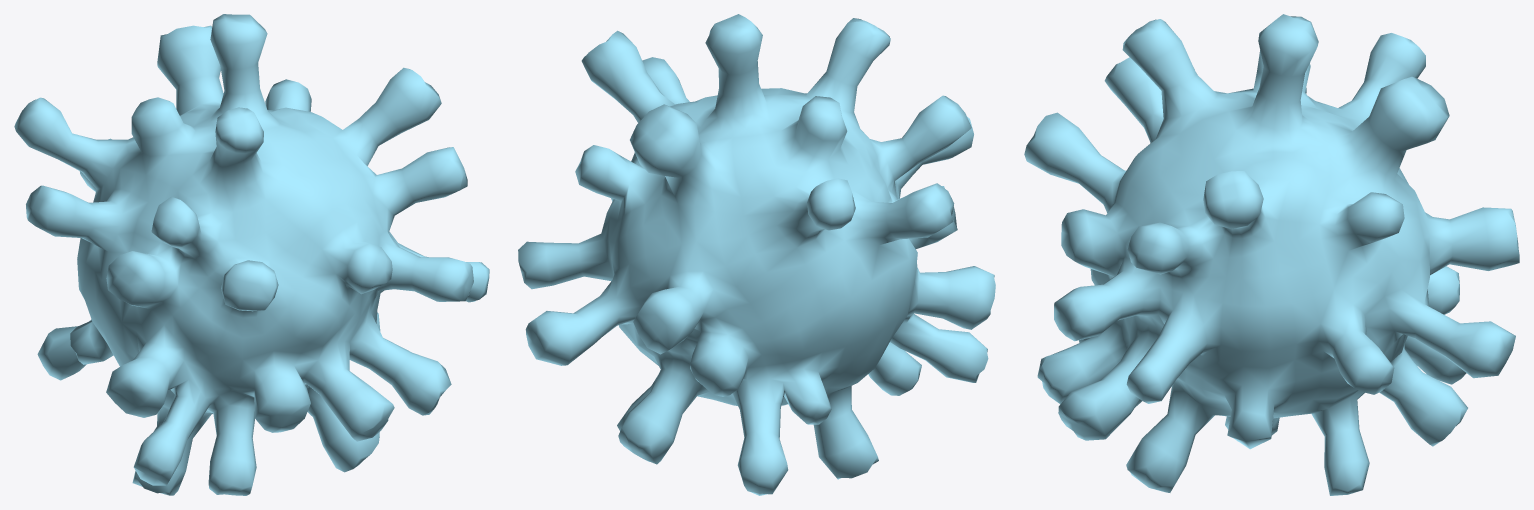
File: macrophage.fbx
3 views of the same model, side by side, from view 1: azimuth 30°, elevation 25°; view 2: azimuth 150°, elevation 25°; view 3: azimuth 270°, elevation 25° (orthographic). The views are drawn at different scales.
Parts seen in each view (by area): view 1: macrophage; view 2: macrophage; view 3: macrophage.
Boxes of the visible parts, x1=… form: macrophage: x1=14, y1=14, x2=489, y2=495; macrophage: x1=518, y1=14, x2=995, y2=495; macrophage: x1=1024, y1=14, x2=1519, y2=495.
Bounding box in the file's own units: 1322 × 1416 × 1359.
